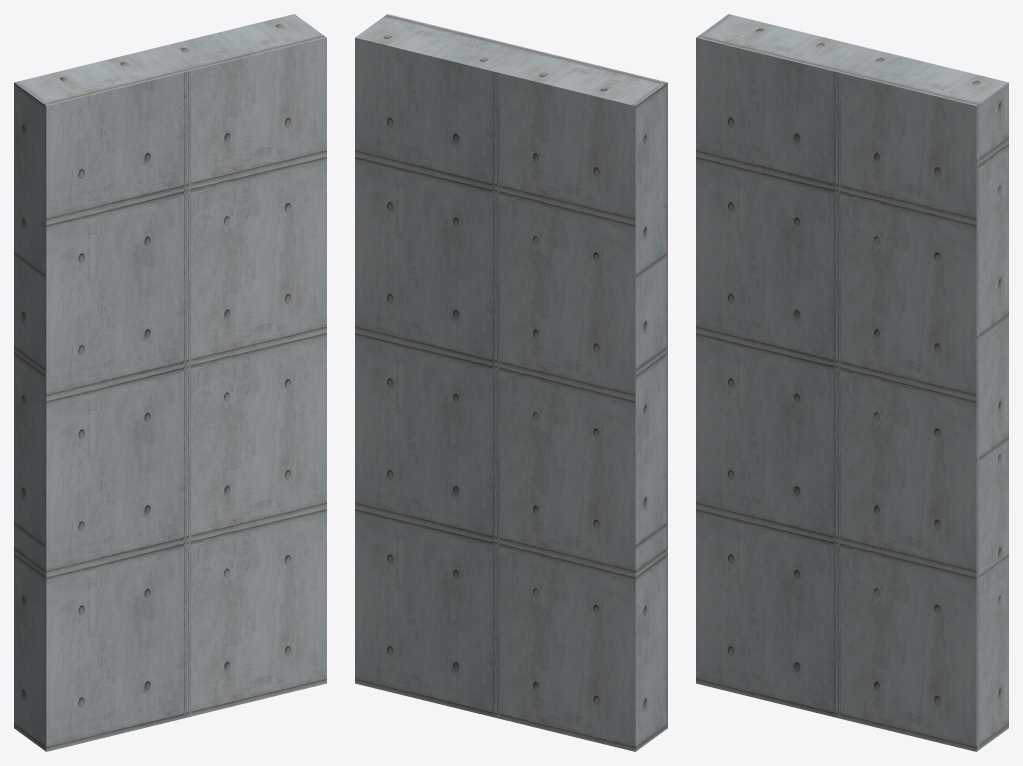
File: FragmentedWall.fbx
3 views of the same model, side by side, from view 1: azimuth 30°, elevation 25°; view 2: azimuth 150°, elevation 25°; view 3: azimuth 330°, elevation 25° (orthographic).
Visible parts, largest first — view 1: Group1, Group11, Group9, Group2, Group7, Group8, Group10, Group13, Group4, Group12, Group6, Group3 (+1 smaller); view 2: Group1, Group11, Group9, Group2, Group7, Group8, Group10, Group13, Group4, Group12, Group6, Group3 (+1 smaller); view 3: Group1, Group2, Group11, Group7, Group9, Group8, Group10, Group6, Group5, Group13, Group4, Group12 (+1 smaller).
Boxes of the visible parts, x1,y1,x2,y2 form: Group1: [14, 32, 251, 280]; Group11: [14, 305, 206, 550]; Group9: [14, 527, 206, 751]; Group2: [202, 14, 326, 272]; Group7: [184, 510, 326, 712]; Group8: [143, 310, 264, 513]; Group10: [14, 222, 206, 343]; Group13: [161, 502, 285, 659]; Group4: [179, 206, 326, 342]; Group12: [47, 489, 203, 606]; Group6: [264, 396, 326, 551]; Group3: [151, 139, 263, 281]; Group1: [430, 32, 667, 280]; Group11: [475, 305, 667, 550]; Group9: [475, 527, 667, 751]; Group2: [355, 14, 479, 272]; Group7: [355, 510, 497, 712]; Group8: [417, 310, 538, 513]; Group10: [475, 222, 667, 343]; Group13: [396, 502, 520, 659]; Group4: [355, 206, 502, 342]; Group12: [478, 489, 634, 606]; Group6: [355, 396, 417, 551]; Group3: [418, 139, 530, 281]; Group1: [696, 14, 933, 211]; Group2: [851, 64, 1008, 341]; Group11: [696, 260, 855, 481]; Group7: [833, 554, 1008, 751]; Group9: [696, 482, 855, 722]; Group8: [793, 347, 913, 551]; Group10: [696, 204, 855, 352]; Group6: [914, 441, 1008, 600]; Group5: [914, 318, 1008, 464]; Group13: [811, 510, 935, 657]; Group4: [829, 244, 976, 352]; Group12: [696, 468, 853, 593].
Bounding box in the file's own units: 1 × 2.2 × 0.2.
